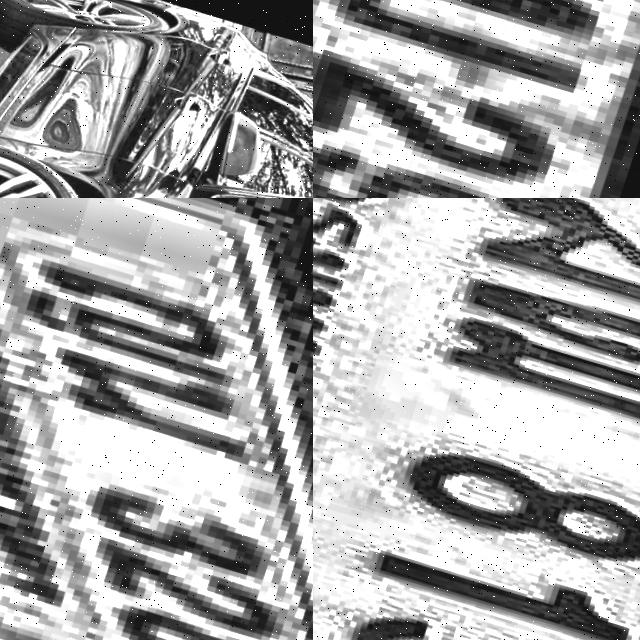license-plate: (313, 198, 640, 640), (0, 198, 313, 640), (313, 0, 640, 198)
